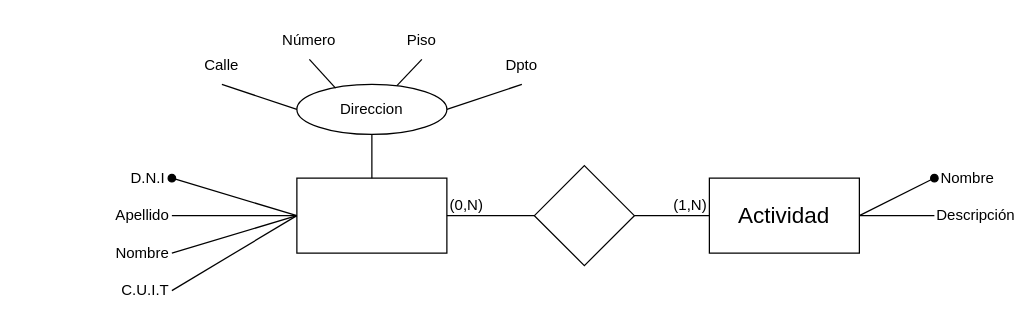
The diagram is 1036 pixels wide and 330 high, and some of its shapes have lost their labels. Each missing label, with the centre of its shape:
"Persona" goes at (371,215).
"Realiza" goes at (583,215).
